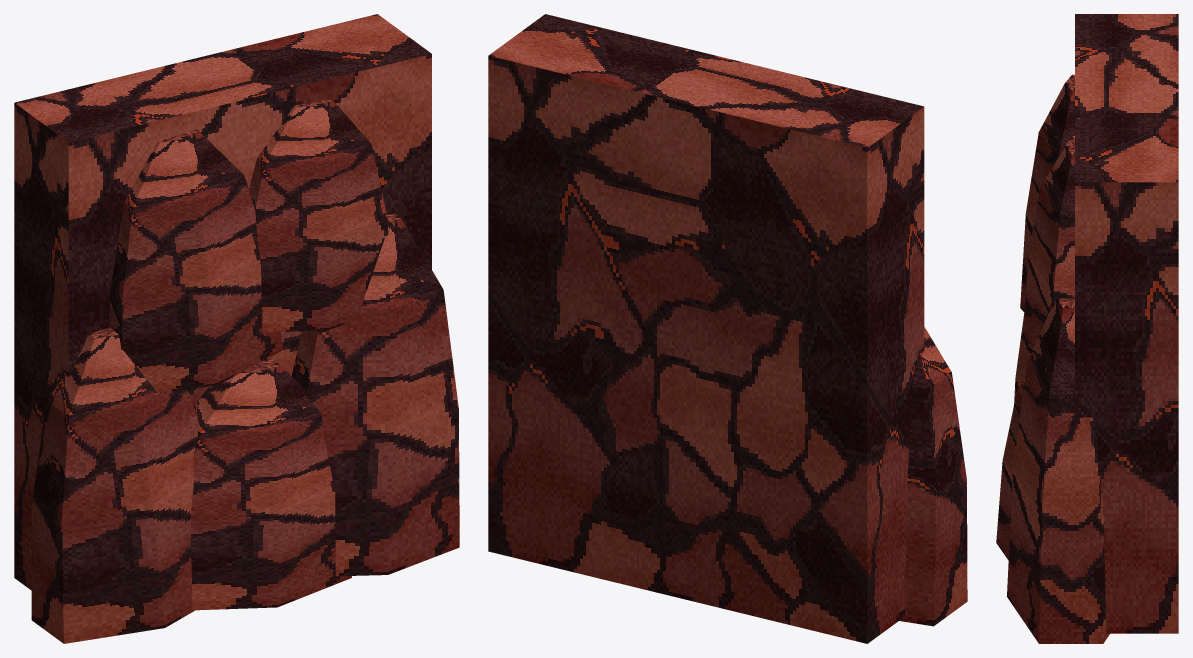
The model's file is parede_caverna_inferno.glb.
The picture shows the model from 3 angles, left to right: view 1: azimuth 30°, elevation 25°; view 2: azimuth 150°, elevation 25°; view 3: azimuth 270°, elevation 25°; orthographic projection. The views are drawn at different scales.
Visible parts, largest first — view 1: parede_caverna_inferno; view 2: parede_caverna_inferno; view 3: parede_caverna_inferno.
Boxes of the visible parts, x1=… form: parede_caverna_inferno: x1=14, y1=14, x2=459, y2=643; parede_caverna_inferno: x1=488, y1=14, x2=967, y2=643; parede_caverna_inferno: x1=996, y1=14, x2=1178, y2=643.
Size of the model in its own units: 2.18 by 2.54 by 0.916.
Materials: 1 (1 with a texture image).
